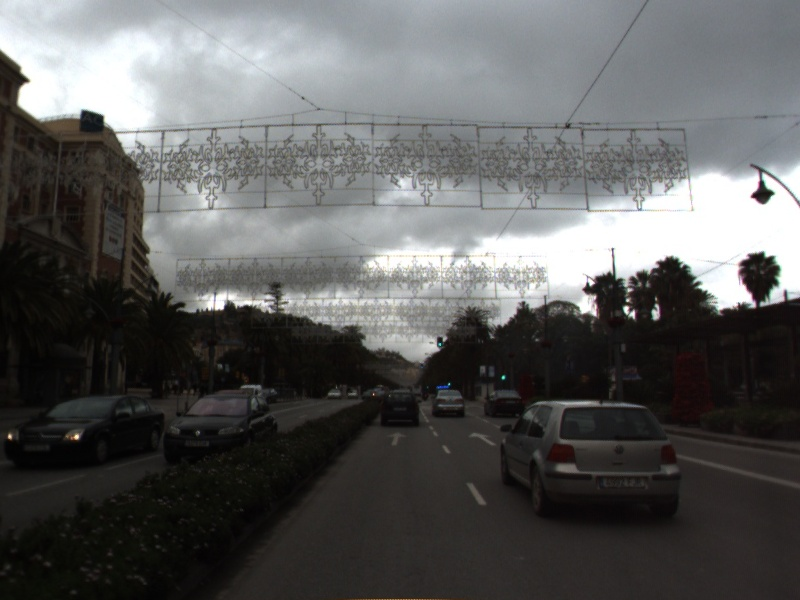STRAIGHT: (466, 430, 499, 448), (385, 430, 410, 448)
